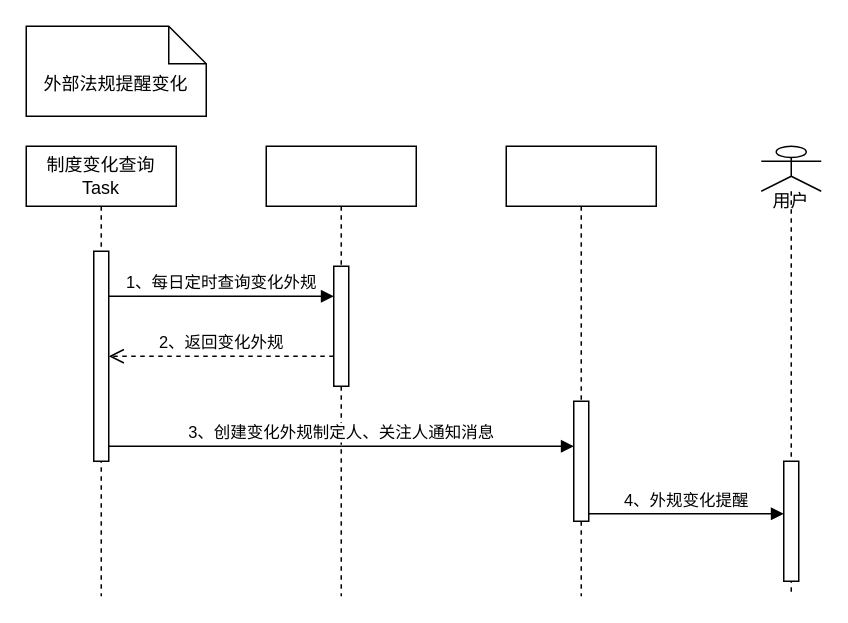
Some shapes in this 848 by 623 pixel diagram are drawn without their labels. Here are the shapes that lost their labels. From the top down, the centre of each, then its label:
[340,370]: 法宝系统
[580,370]: MessageService
